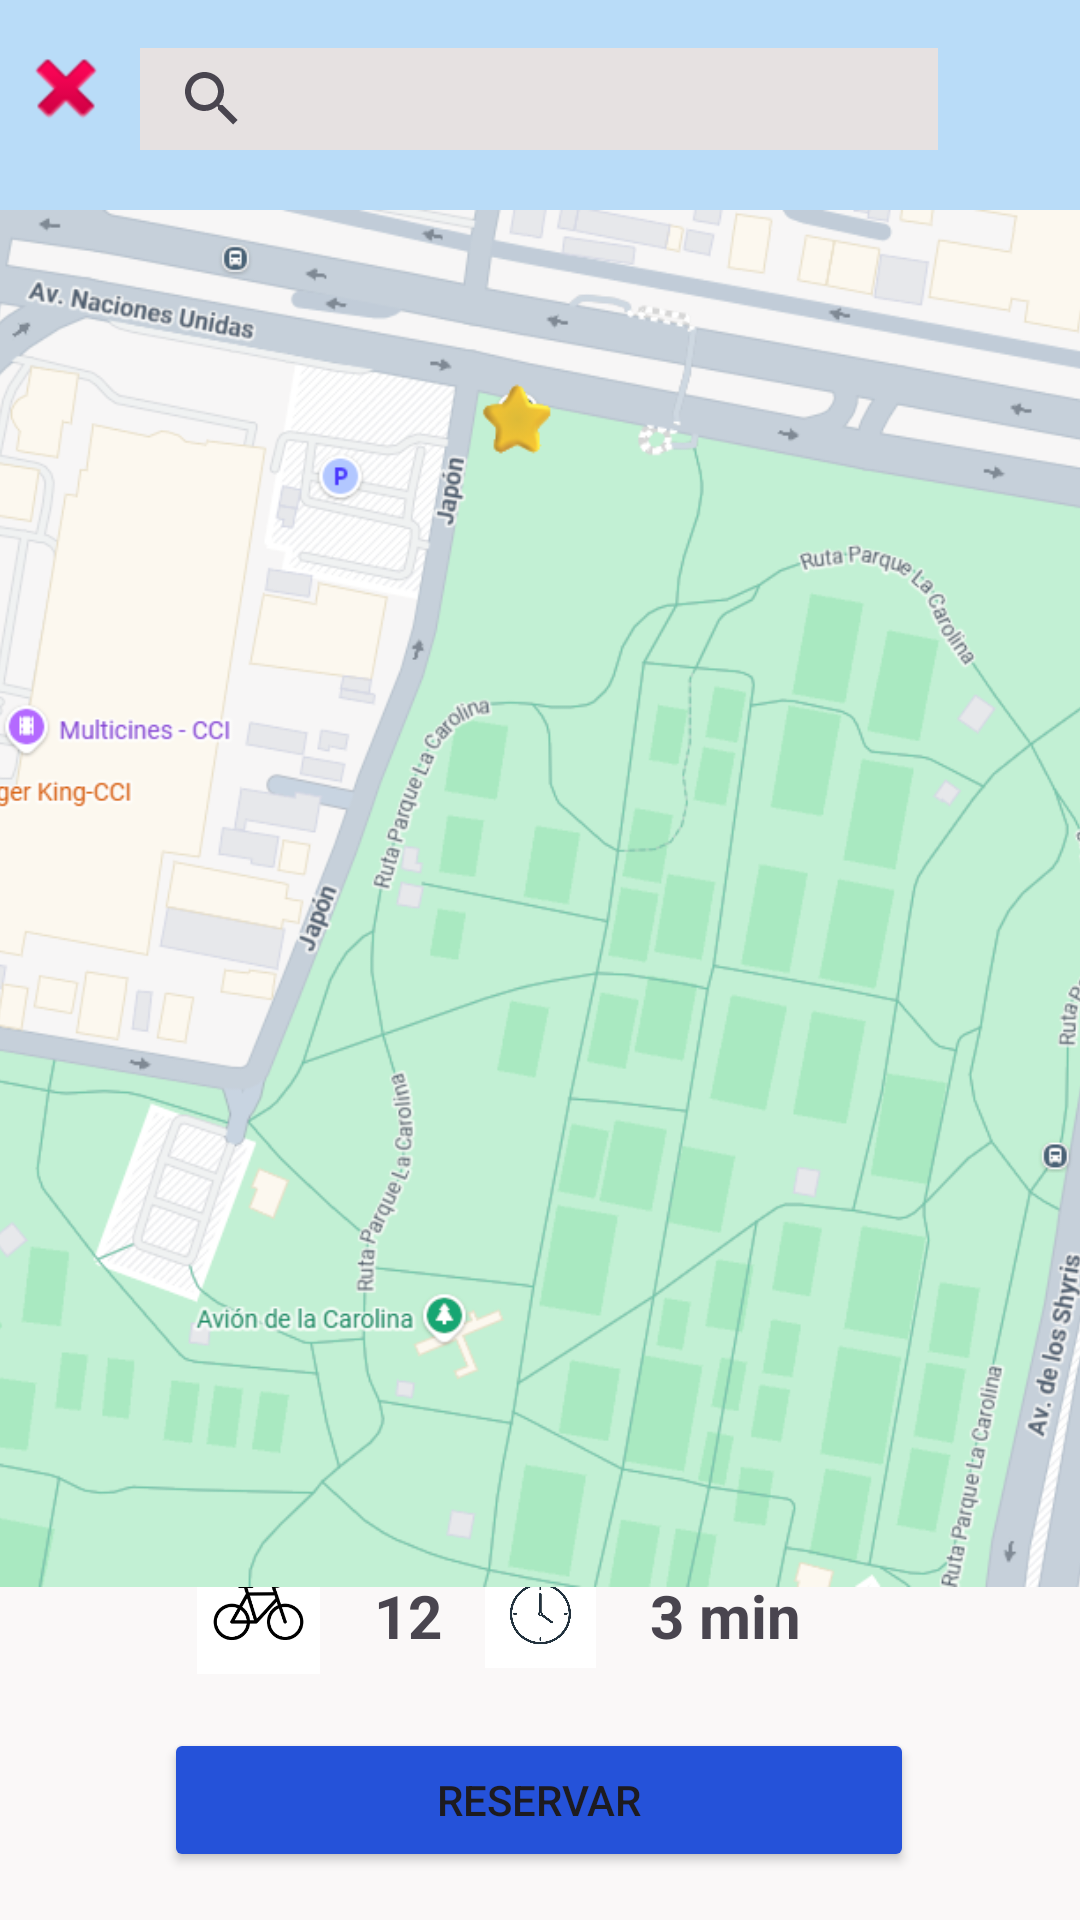

Screen size 1080w x 1920h. Icon name, then its center in pixels as (x=x, y=y):
bici: (x=258, y=1612)
delete: (x=66, y=88)
reloj: (x=540, y=1612)
